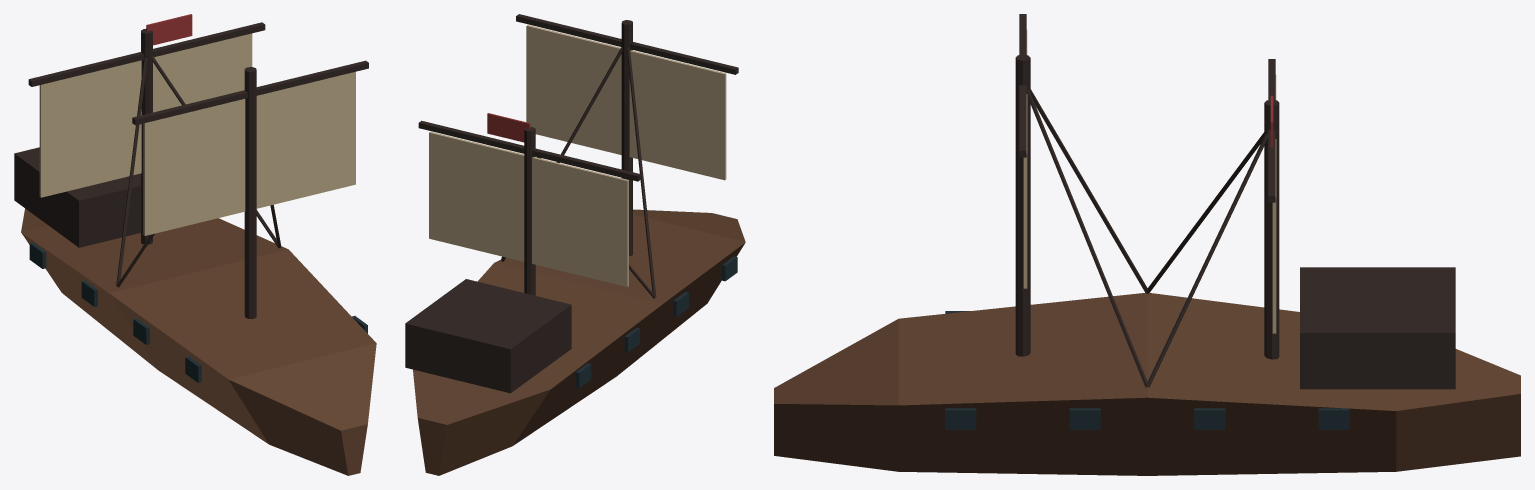
The model's file is PirateCove_DistantGalleon_Showcase.glb.
3 views of the same model, side by side, from view 1: azimuth 30°, elevation 25°; view 2: azimuth 150°, elevation 25°; view 3: azimuth 270°, elevation 25° (orthographic). The views are drawn at different scales.
Visible parts, largest first — view 1: PirateCove_DistantGalleon_Showcase; view 2: PirateCove_DistantGalleon_Showcase; view 3: PirateCove_DistantGalleon_Showcase.
Part boxes in pixels (box(x1,y1,x2,y2)): PirateCove_DistantGalleon_Showcase: box(14, 14, 376, 475); PirateCove_DistantGalleon_Showcase: box(405, 14, 745, 475); PirateCove_DistantGalleon_Showcase: box(774, 14, 1520, 475).
Bounding box in the file's own units: 5.2 × 7 × 12.
